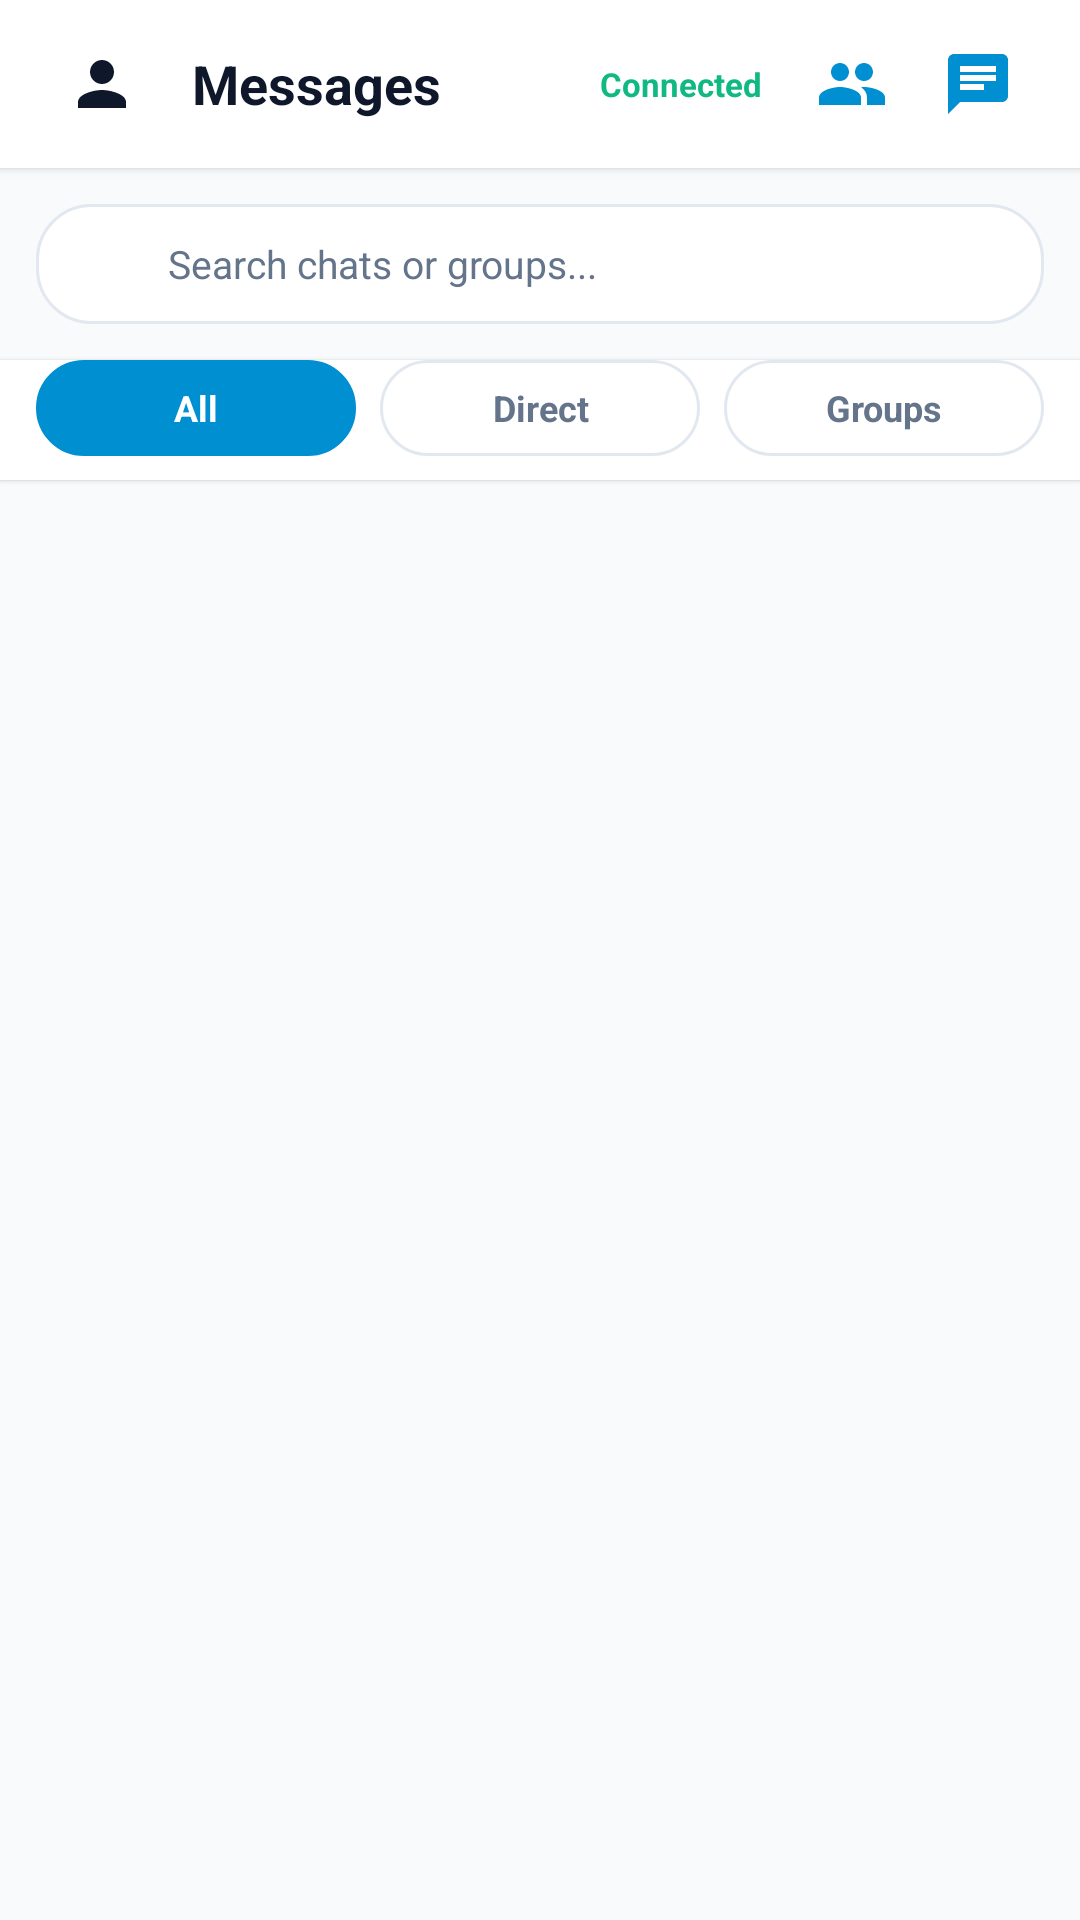

Icon click points for this 1080px x 1920px phone screenshot, format point (x, y):
New Chat: point (978, 84)
New Group: point (852, 84)
